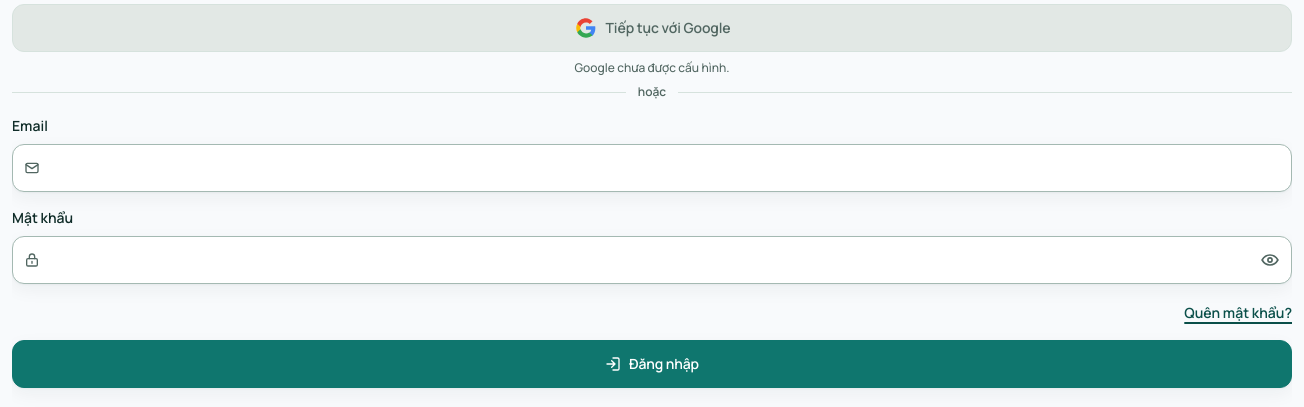
Test case: LoginForm › keeps the keyboard-accessible password toggle available
Click the button named "Hiện mật khẩu". click: {"x": 1270, "y": 260}
box: [1248,236,1292,284]
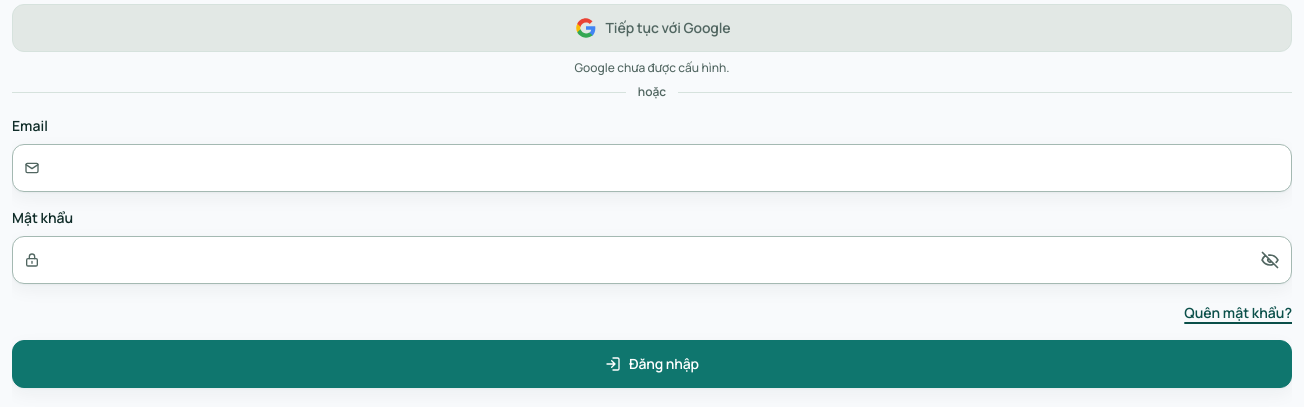
Expected: the button named "Ẩn mật khẩu" is shown
Click the button named "Ẩn mật khẩu". click: {"x": 1270, "y": 260}
box: [1248,236,1292,284]
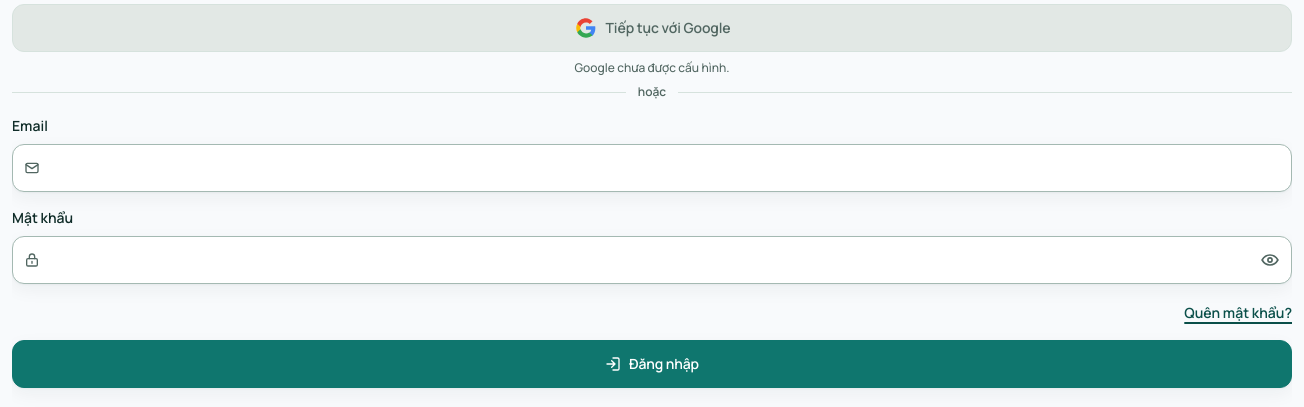
Expected: the button named "Hiện mật khẩu" is shown, [1248,236,1292,284]
